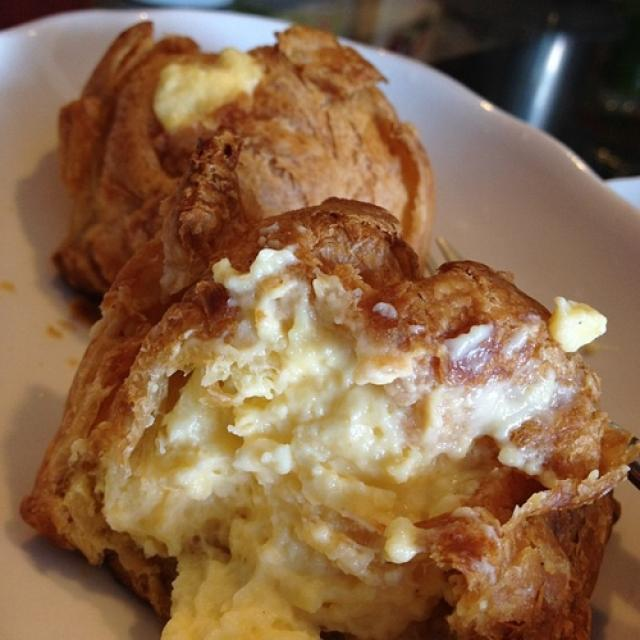炸货点心: (29, 26, 596, 634)
蛋糕甜品: (29, 26, 596, 634)
